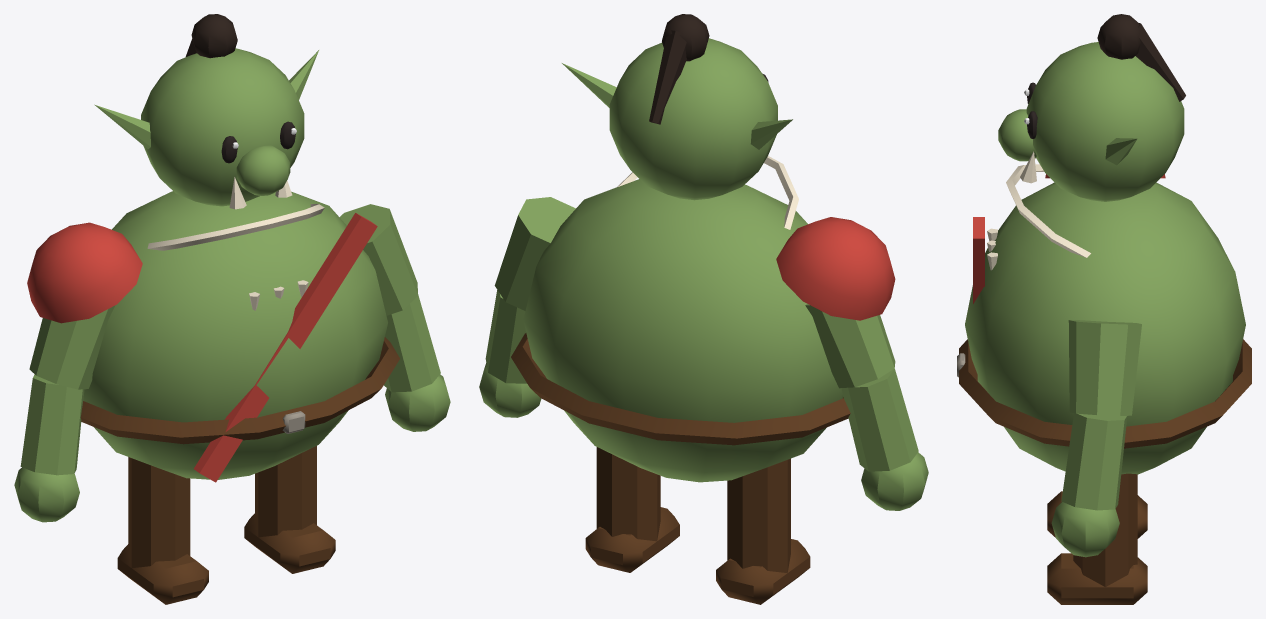
The model's file is CH_Cust_18_Ork.fbx.
3 views of the same model, side by side, from view 1: azimuth 30°, elevation 25°; view 2: azimuth 150°, elevation 25°; view 3: azimuth 270°, elevation 25° (orthographic). The views are drawn at different scales.
Visible parts, largest first — view 1: CH_Cust_18_Ork; view 2: CH_Cust_18_Ork; view 3: CH_Cust_18_Ork.
Boxes of the visible parts, left/top/right/bottom form: CH_Cust_18_Ork: left=14, top=14, right=450, bottom=604; CH_Cust_18_Ork: left=479, top=14, right=928, bottom=604; CH_Cust_18_Ork: left=957, top=14, right=1251, bottom=604.
Size of the model in its own units: 1.24 by 1.51 by 0.7343.
1 material, 1 textured.
